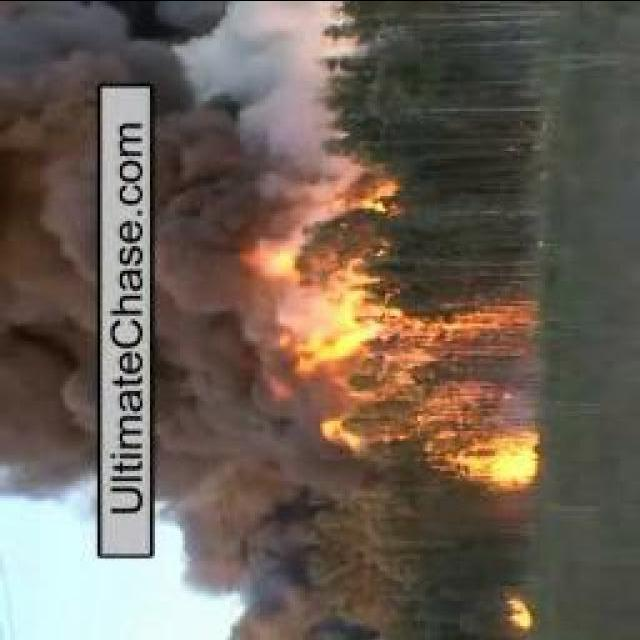Fire: (298, 296, 528, 376), (422, 424, 542, 492), (324, 157, 394, 224), (498, 590, 532, 629), (248, 238, 286, 270)
